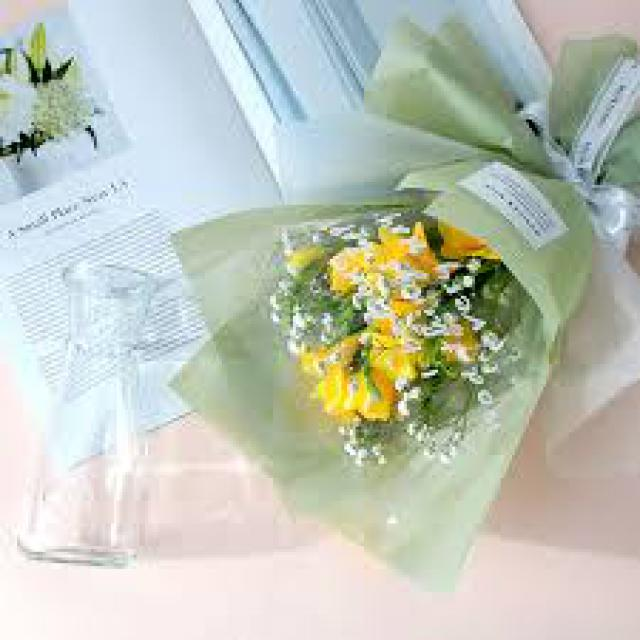freesia: (299, 344, 406, 428)
gypsophila: (347, 260, 462, 338), (462, 317, 527, 450), (243, 275, 350, 343)
